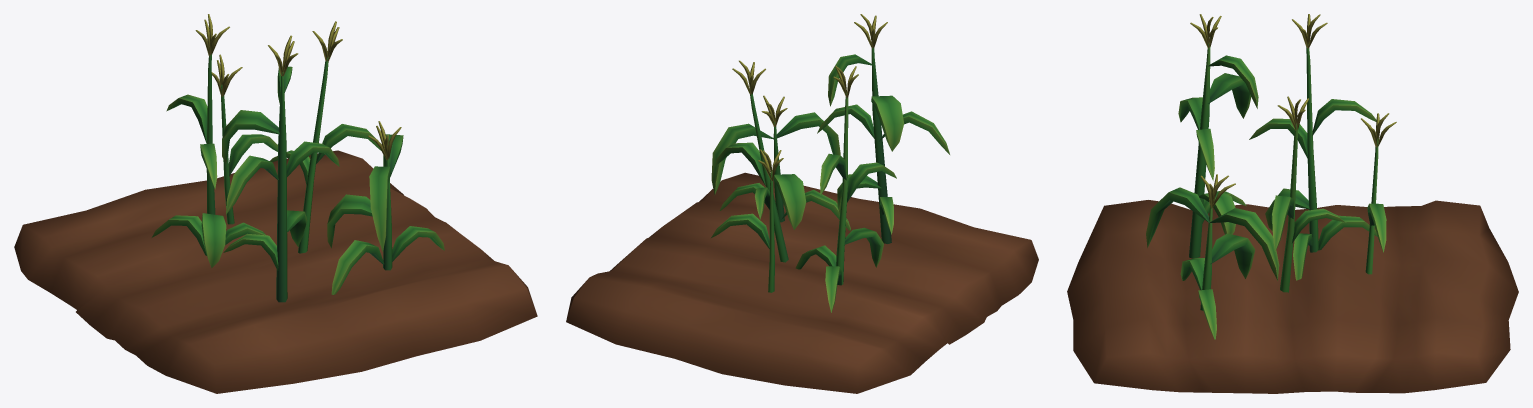
The model's file is SM_PlantSoil_Corn_Lv2.fbx.
3 renders of one model, left to right at view 1: azimuth 30°, elevation 25°; view 2: azimuth 150°, elevation 25°; view 3: azimuth 270°, elevation 25°, orthographic. The views are drawn at different scales.
Parts seen in each view (by area): view 1: SM_PlantSoil_Corn_Lv2; view 2: SM_PlantSoil_Corn_Lv2; view 3: SM_PlantSoil_Corn_Lv2.
Boxes of the visible parts, x1,y1,x2,y2 form: SM_PlantSoil_Corn_Lv2: (14, 14, 537, 393); SM_PlantSoil_Corn_Lv2: (566, 14, 1038, 393); SM_PlantSoil_Corn_Lv2: (1067, 14, 1518, 393).
Size of the model in its own units: 96.14 by 72.28 by 103.
